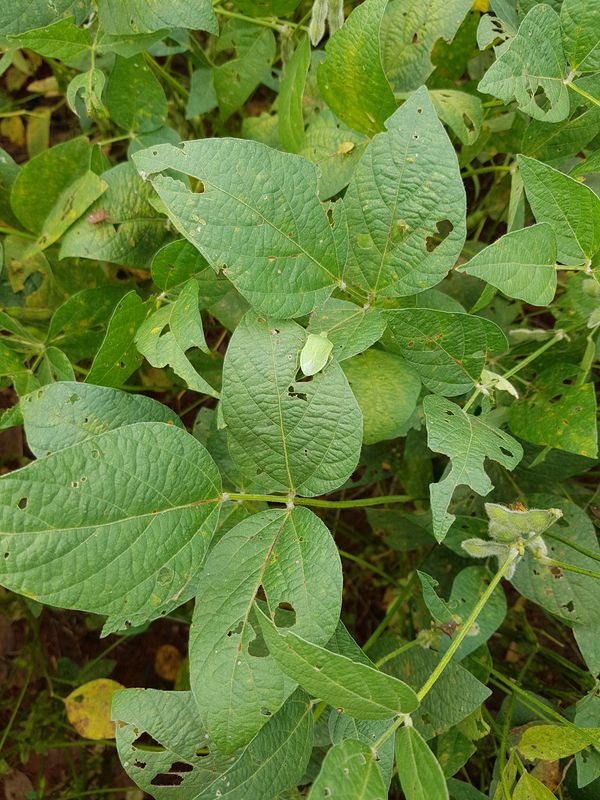Euschistus_heros_adulto: (431, 615, 463, 645), (80, 207, 112, 230)
Euschistus_heros_ninfa: (333, 138, 358, 160)
Nezara_viridula_adulto: (289, 324, 342, 386)
